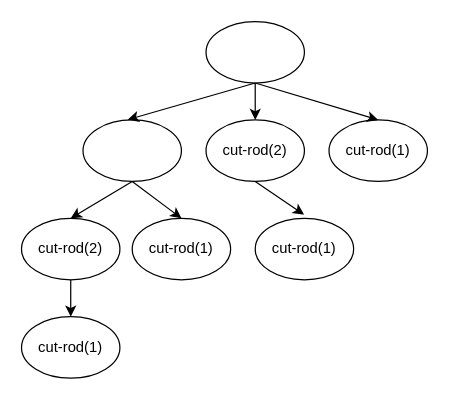
Some shapes in this 449 by 400 pixel diagram are drawn without their labels. The box of each missing label's shape, as (x1, y1, x2, y2) in pixels:
cut-rod(3): (82, 119, 181, 181)
cut-rod(4): (205, 20, 304, 83)
